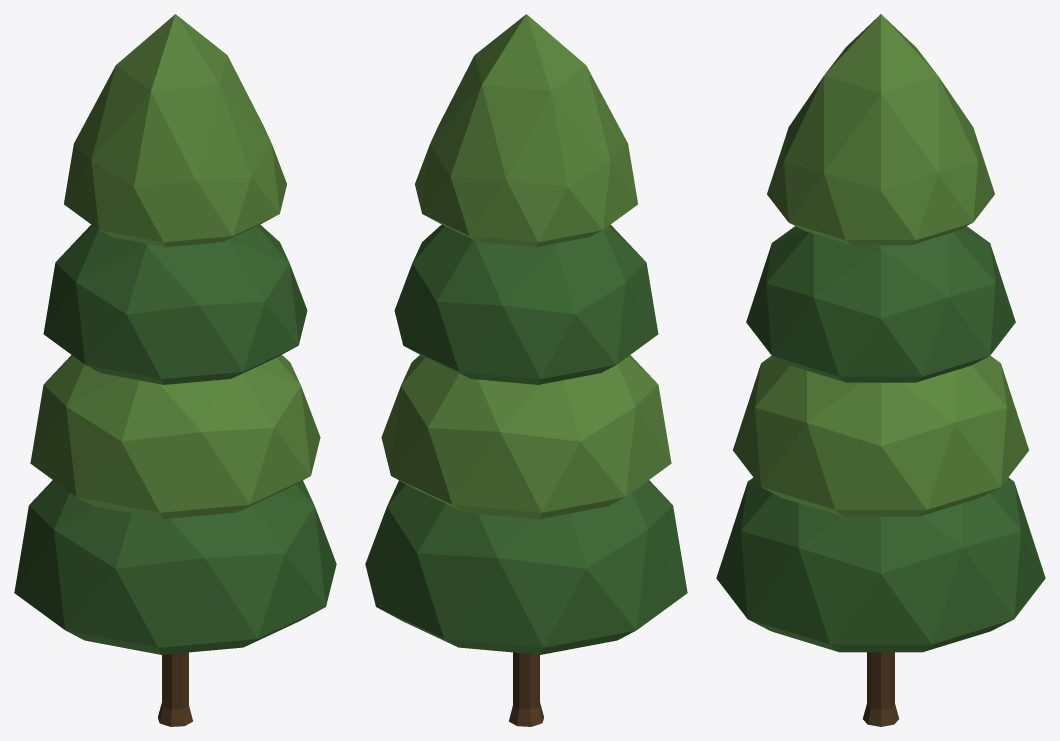
The model's file is Tree 1.fbx.
3 renders of one model, left to right at view 1: azimuth 30°, elevation 25°; view 2: azimuth 150°, elevation 25°; view 3: azimuth 270°, elevation 25°, orthographic.
Parts seen in each view (by area): view 1: Tree 1; view 2: Tree 1; view 3: Tree 1.
Part boxes in pixels (box(x1,y1,x2,y2)): Tree 1: box(14, 14, 336, 726); Tree 1: box(365, 14, 687, 726); Tree 1: box(716, 14, 1045, 726).
Size of the model in its own units: 2218 by 5508 by 2332.
